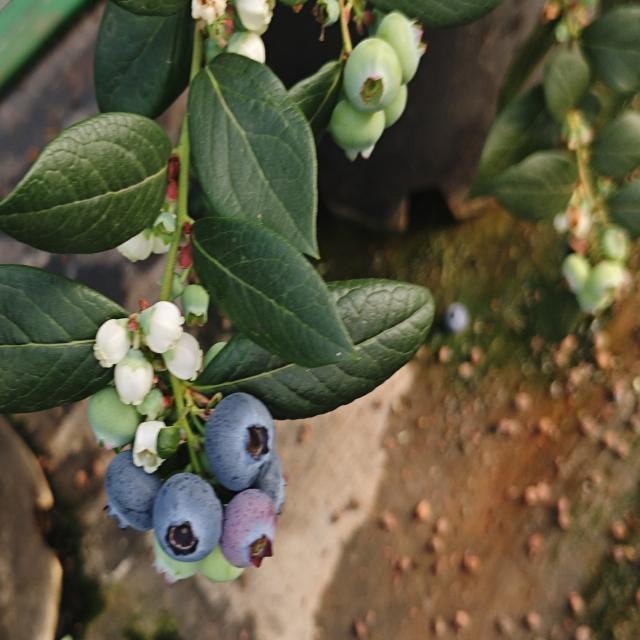ripe: (142, 452, 221, 566), (202, 396, 276, 495), (224, 475, 276, 572), (100, 454, 168, 528)
